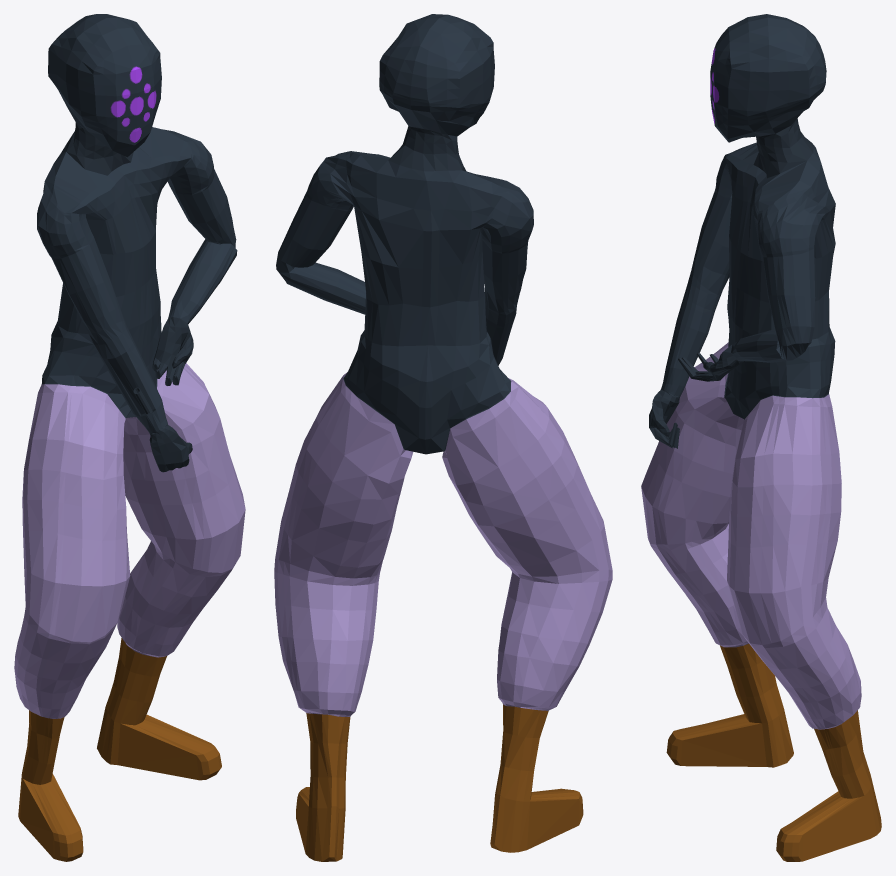
File: Oracle_WR_000013.obj
3 views of the same model, side by side, from view 1: azimuth 30°, elevation 25°; view 2: azimuth 150°, elevation 25°; view 3: azimuth 270°, elevation 25° (orthographic). The views are drawn at different scales.
Parts seen in each view (by area): view 1: Cube; view 2: Cube; view 3: Cube.
Boxes of the visible parts, bbox=[...] form: Cube: bbox=[14, 14, 245, 861]; Cube: bbox=[274, 14, 612, 861]; Cube: bbox=[641, 14, 881, 861].
Size of the model in its own units: 1.33 by 3.79 by 1.05.
